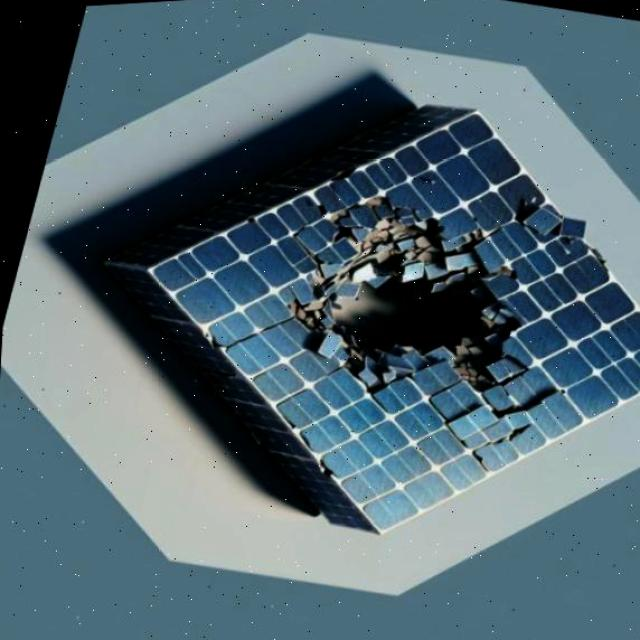Anomaly Solar Panel: (147, 38, 640, 596)
Structural Damage: (247, 177, 609, 441), (502, 194, 589, 253)
